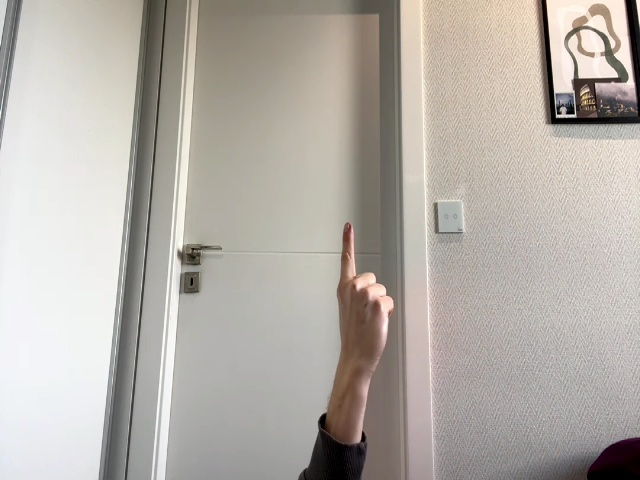D: (336, 223, 394, 388)
